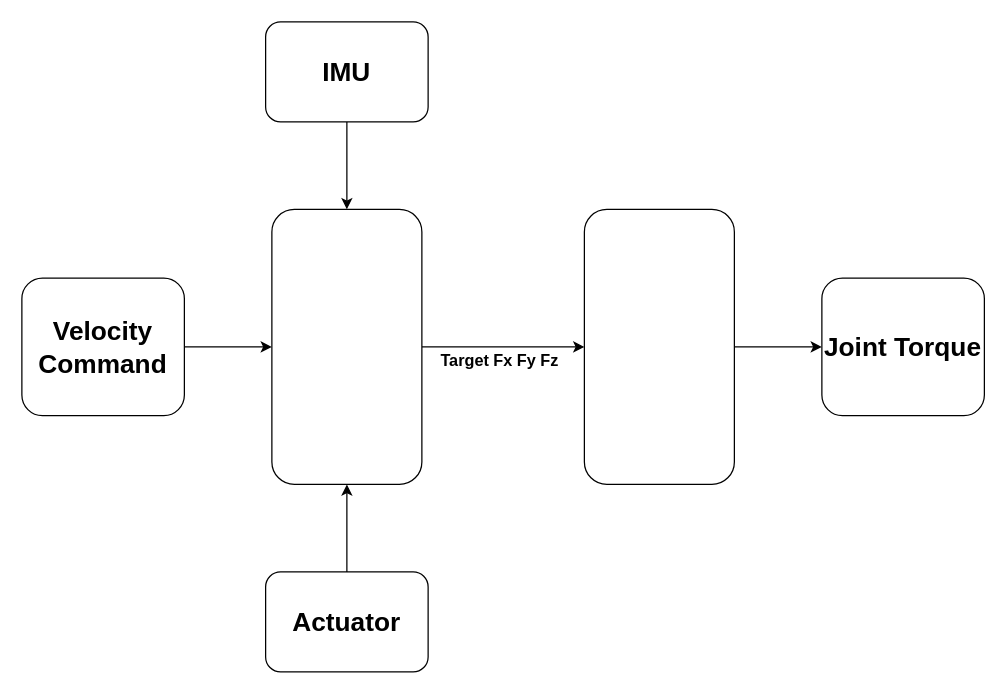
The diagram is 1006 pixels wide and 694 high, and some of its shapes have lost their labels. The centre of each missing label's shape, as x and y in pixels:
LQR: the point at 346,346
VMC: the point at 658,346
